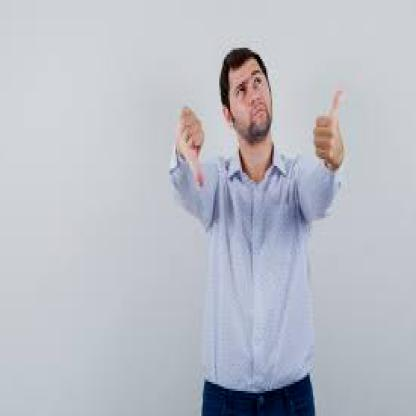Thumbs Down: (170, 98, 213, 180)
